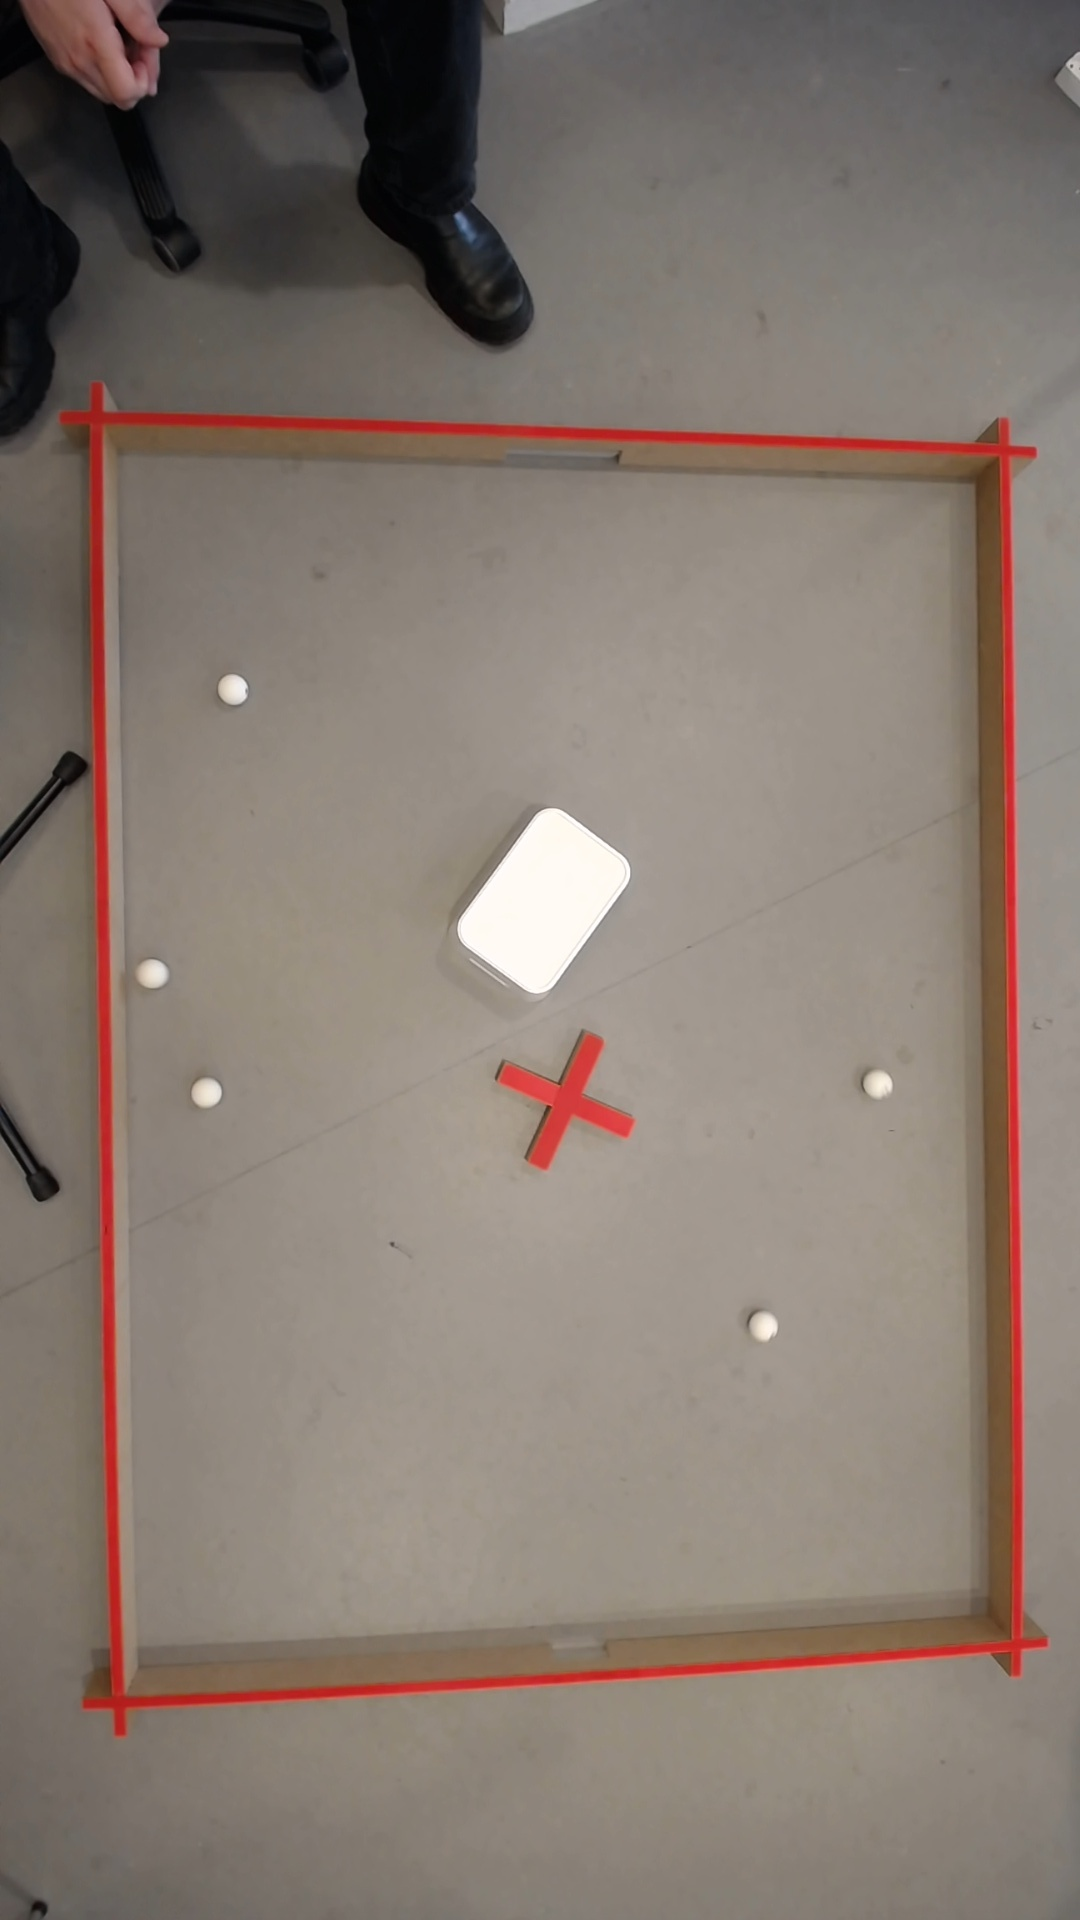balls: (446, 796, 640, 1002), (136, 956, 170, 990), (191, 1076, 224, 1109), (862, 1068, 895, 1098), (222, 675, 247, 703)
car: (749, 1309, 781, 1342)
